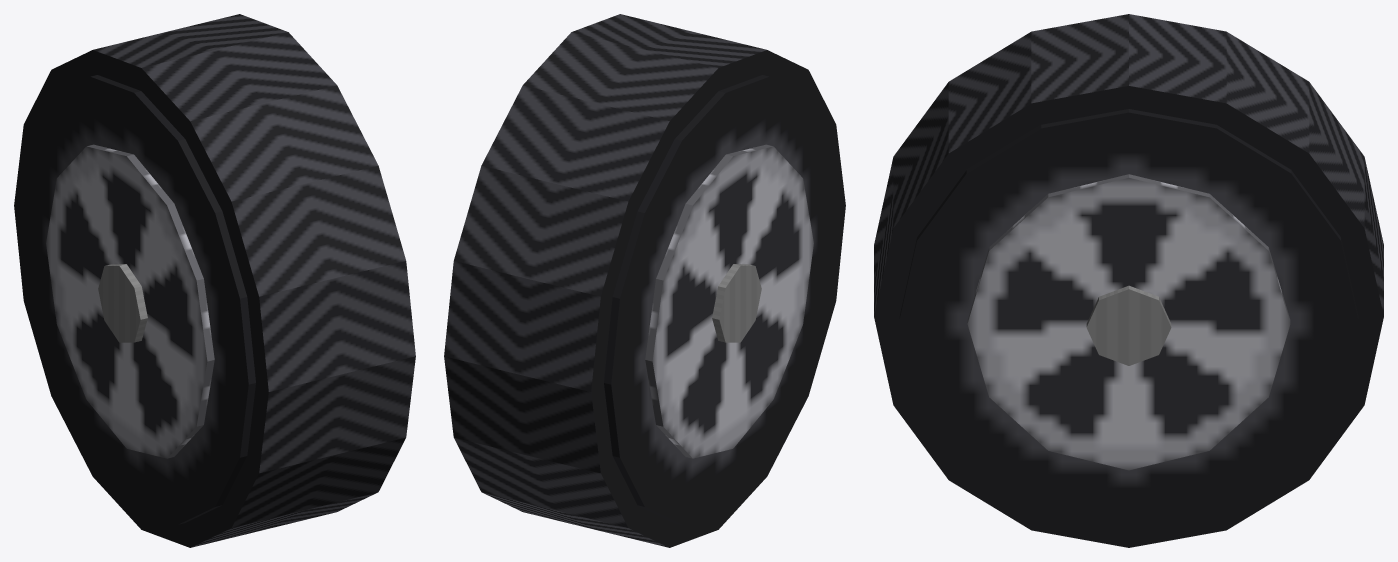
Rendered from police_clio_wheel.obj.
3 views of the same model, side by side, from view 1: azimuth 30°, elevation 25°; view 2: azimuth 150°, elevation 25°; view 3: azimuth 270°, elevation 25° (orthographic).
Visible parts, largest first — view 1: tire, rim; view 2: tire, rim; view 3: tire, rim.
Boxes of the visible parts, x1,y1,x2,y2 form: tire: (14,14,415,547); rim: (46,144,214,458); tire: (444,14,845,547); rim: (645,144,813,458); tire: (874,14,1383,547); rim: (967,174,1290,470).
Bounding box in the file's own units: 0.26 × 0.6 × 0.6.
Materials: 1 (1 with a texture image).
